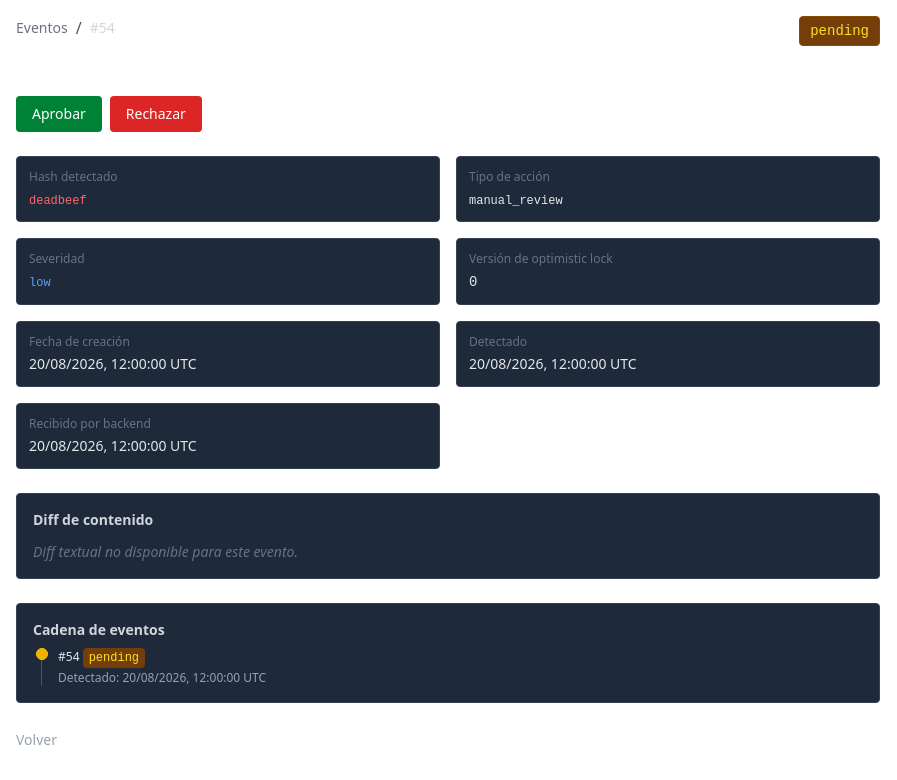
Test: EventDetail — US-11 (toast 409 y aviso de archivo ausente) › Cancelar oculta el aviso de archivo ausente sin enviar una nueva request
The image size is (897, 780).
Click the button "Aprobar".
click(59, 114)  # box [16, 96, 102, 132]
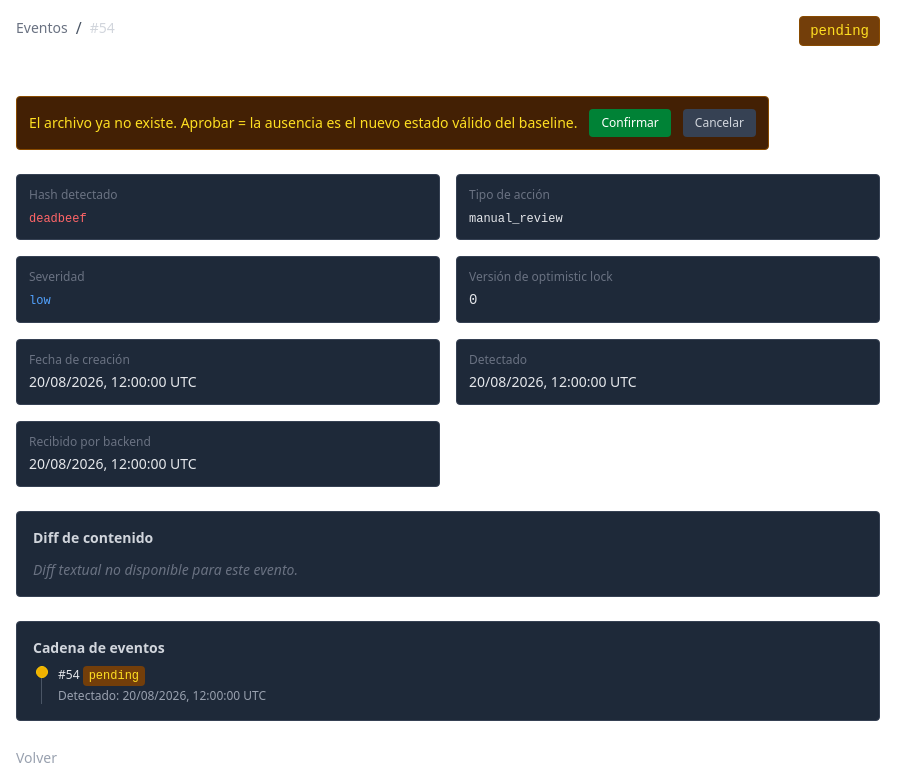
Expected: the text "El archivo ya no existe. Aprobar = la ausencia es el nuevo estado válido del baseline." is shown, [29, 113, 578, 132]
Click the button "Cancelar".
click(719, 123)  # box [683, 109, 756, 137]
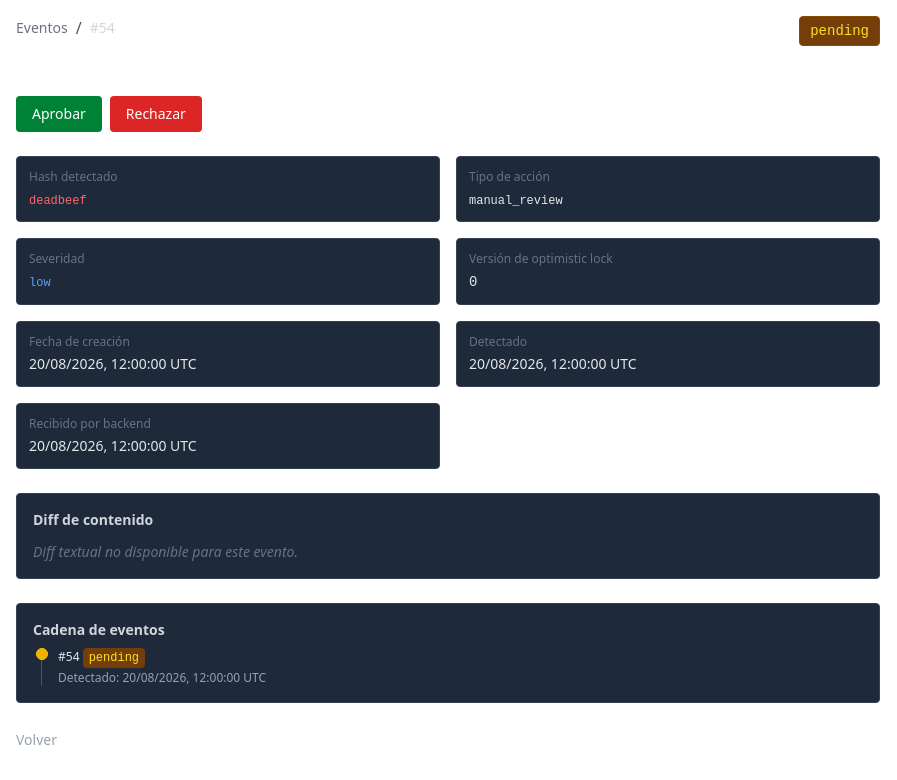
Expected: the text "El archivo ya no existe. Aprobar = la ausencia es el nuevo estado válido del baseline." is gone
